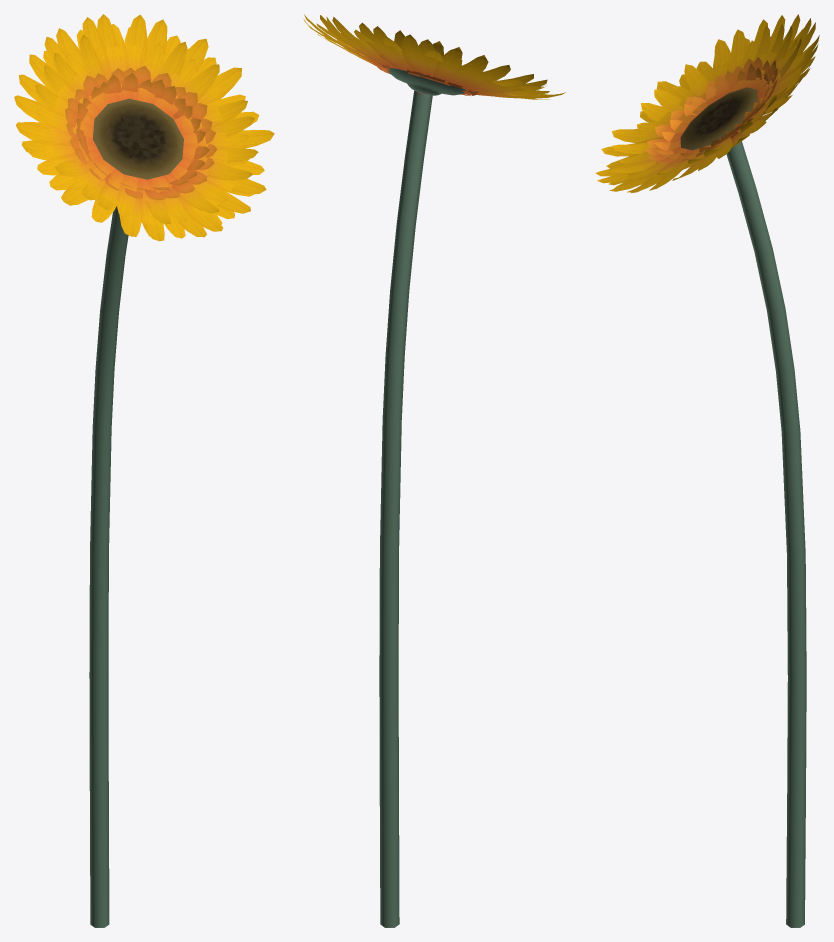
File: flowerDaisy.fbx
3 renders of one model, left to right at view 1: azimuth 30°, elevation 25°; view 2: azimuth 150°, elevation 25°; view 3: azimuth 270°, elevation 25°, orthographic.
Visible parts, largest first — view 1: daisyPetals, flowerDaisy, daisyEye; view 2: flowerDaisy, daisyPetals, daisyEye; view 3: daisyPetals, flowerDaisy, daisyEye.
Part boxes in pixels (left/top/right/bottom): daisyPetals: left=14, top=14, right=274, bottom=241; flowerDaisy: left=89, top=206, right=128, bottom=927; daisyEye: left=93, top=98, right=183, bottom=179; flowerDaisy: left=379, top=90, right=432, bottom=927; daisyPetals: left=303, top=14, right=565, bottom=99; daisyEye: left=387, top=67, right=466, bottom=95; daisyPetals: left=595, top=14, right=819, bottom=192; flowerDaisy: left=726, top=141, right=806, bottom=927; daisyEye: left=680, top=87, right=757, bottom=150.
Size of the model in its own units: 13.31 by 49.43 by 11.31.
2 materials, 2 textured.
